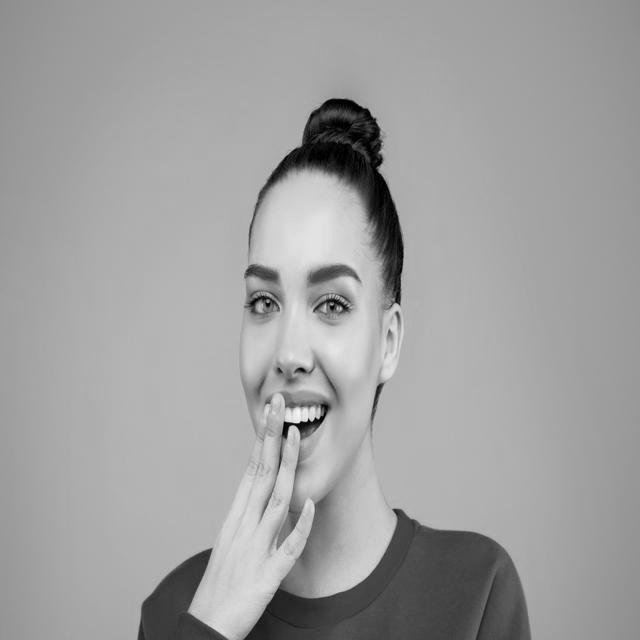Happiness: (239, 169, 383, 514)
